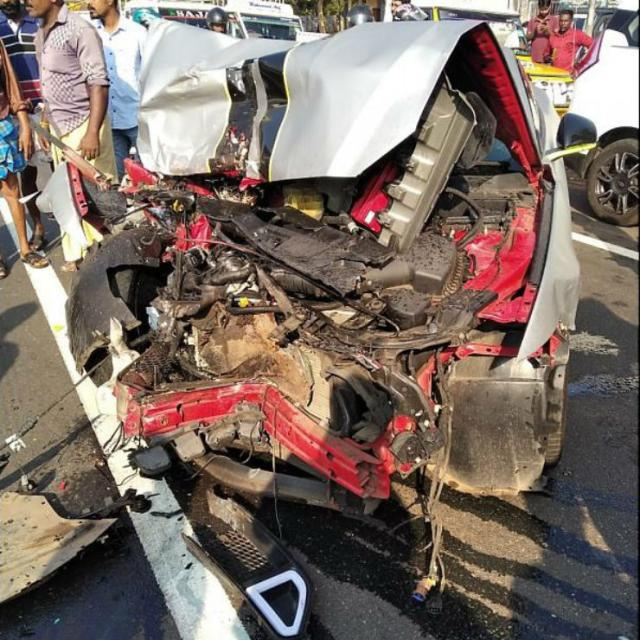accident: (69, 20, 579, 514)
